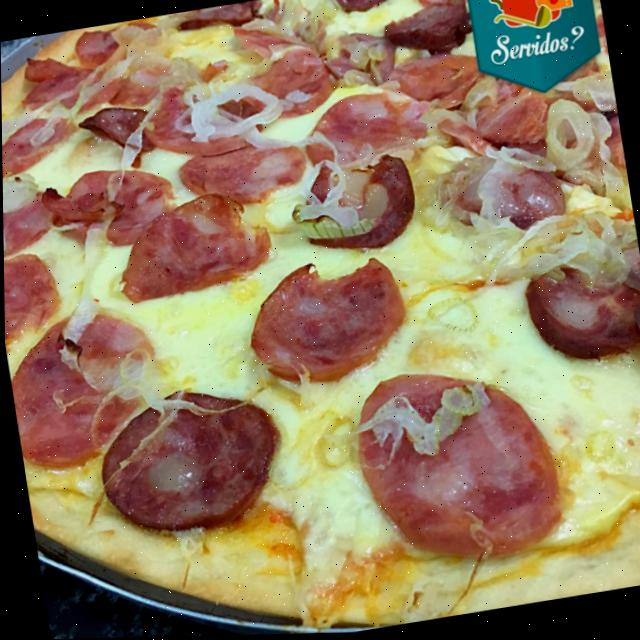pepperoni: (349, 352, 569, 579), (83, 376, 288, 552), (4, 300, 165, 477), (240, 249, 413, 398), (110, 184, 283, 307), (515, 254, 640, 371), (293, 152, 425, 259), (441, 144, 570, 248), (174, 129, 314, 220), (296, 84, 435, 175), (47, 160, 177, 251), (145, 77, 269, 166), (21, 46, 121, 118), (3, 242, 66, 351), (472, 86, 563, 160), (247, 45, 333, 120), (381, 1, 475, 62), (1, 110, 79, 182), (322, 26, 398, 96), (2, 176, 61, 262), (69, 18, 161, 60), (176, 0, 267, 38), (328, 0, 408, 19), (410, 0, 470, 14)
pizza: (0, 0, 640, 640)
